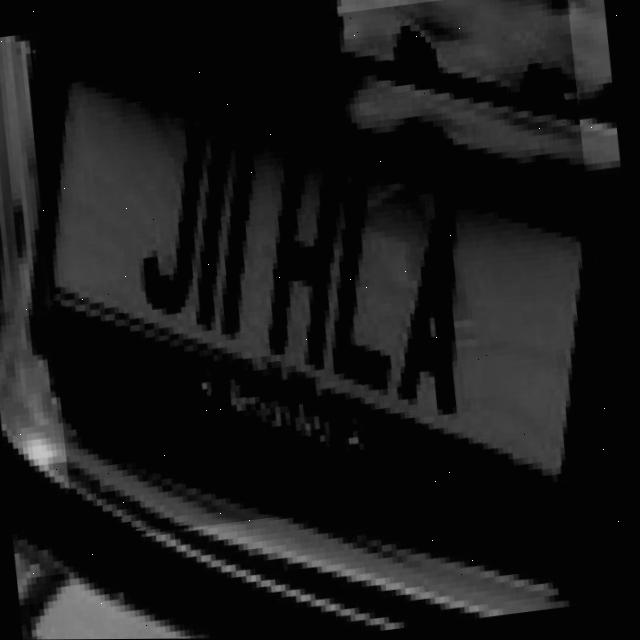LicensePlate: (17, 0, 625, 543)
